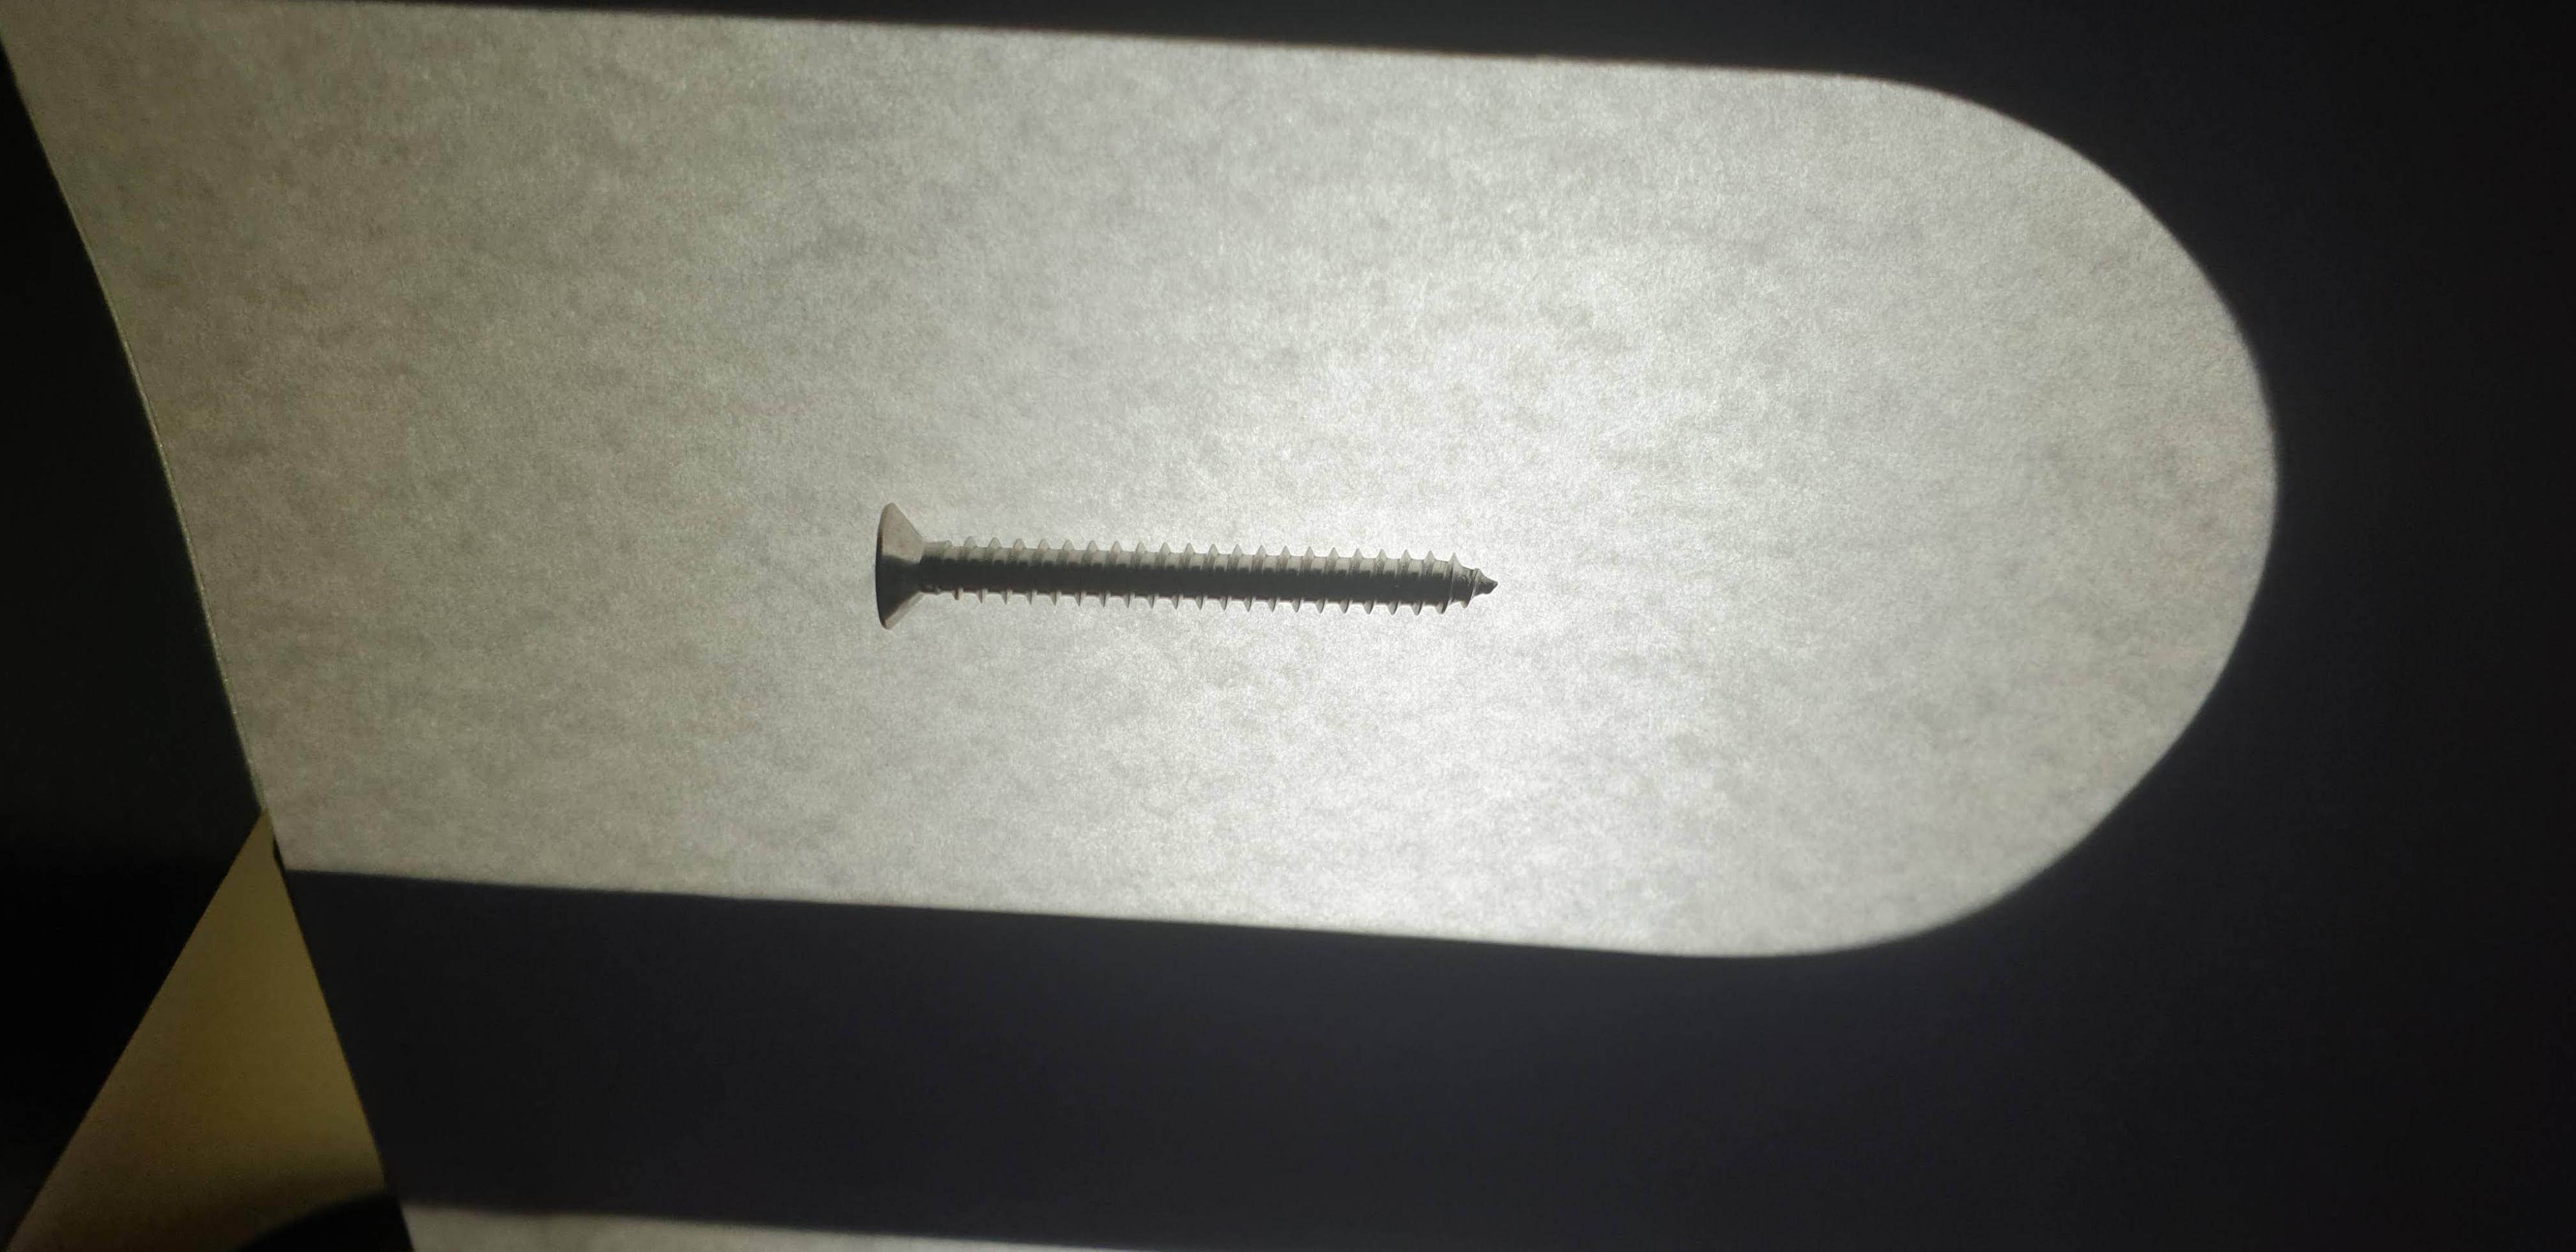S001: (825, 427, 1567, 715)
